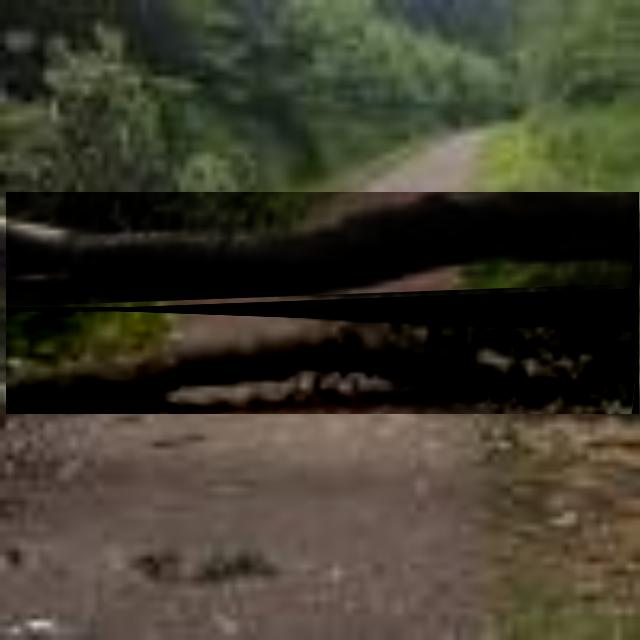Fallen Tree: (6, 192, 640, 312), (6, 307, 640, 415)
